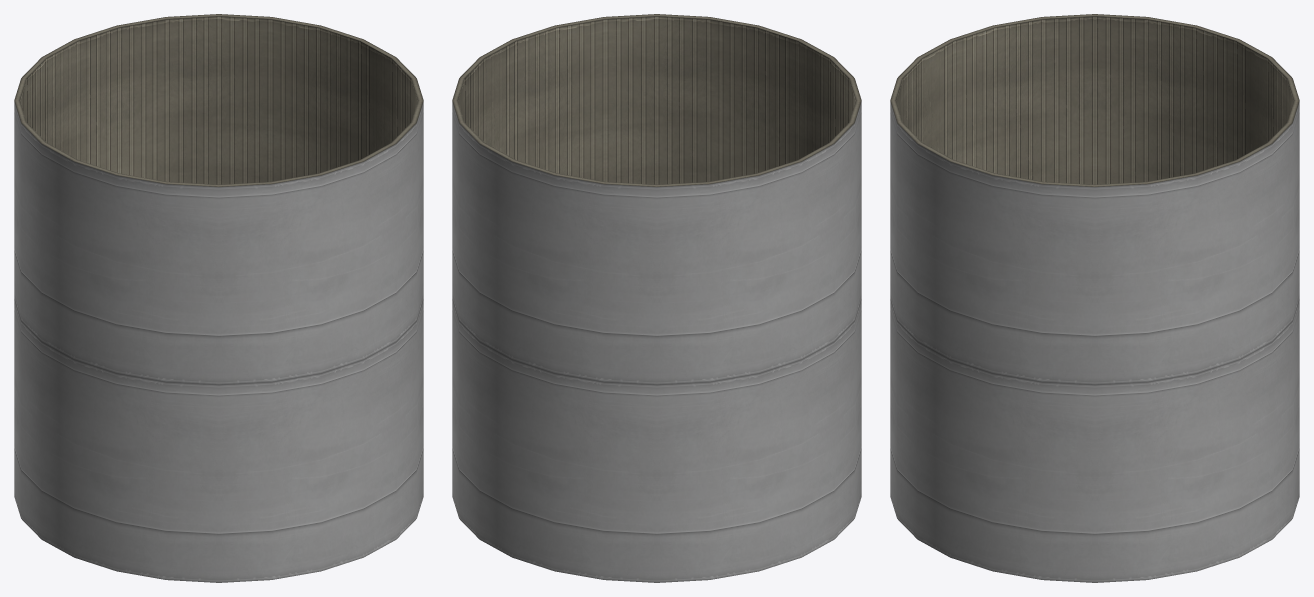
Rendered from nk33_fairing_s0.obj.
The picture shows the model from 3 angles, left to right: view 1: azimuth 30°, elevation 25°; view 2: azimuth 150°, elevation 25°; view 3: azimuth 270°, elevation 25°; orthographic projection.
Visible parts, largest first — view 1: fairing3; view 2: fairing3; view 3: fairing3.
Boxes of the visible parts, left/top/right/bottom form: fairing3: left=14, top=14, right=423, bottom=582; fairing3: left=452, top=14, right=861, bottom=582; fairing3: left=890, top=14, right=1299, bottom=582.
Size of the model in its own units: 1.88 by 2 by 1.88.
Materials: 1 (1 with a texture image).
